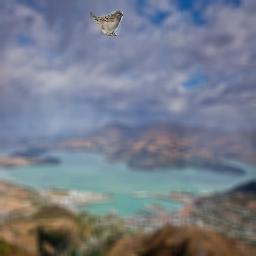Sparrow: (90, 11, 123, 36)
